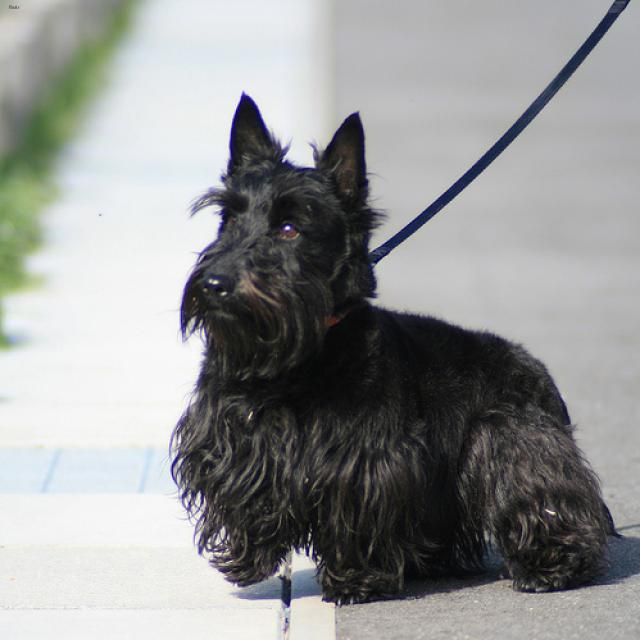dog-scottish_terrier: (163, 74, 625, 614)
